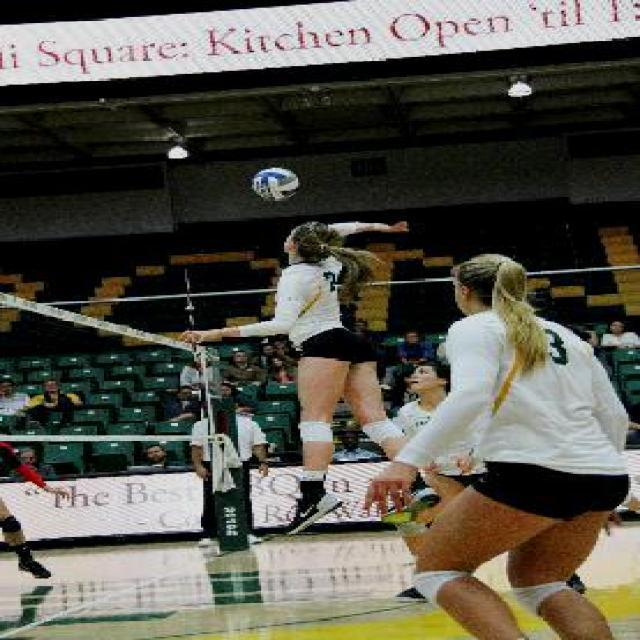volleyball: (252, 168, 300, 200)
